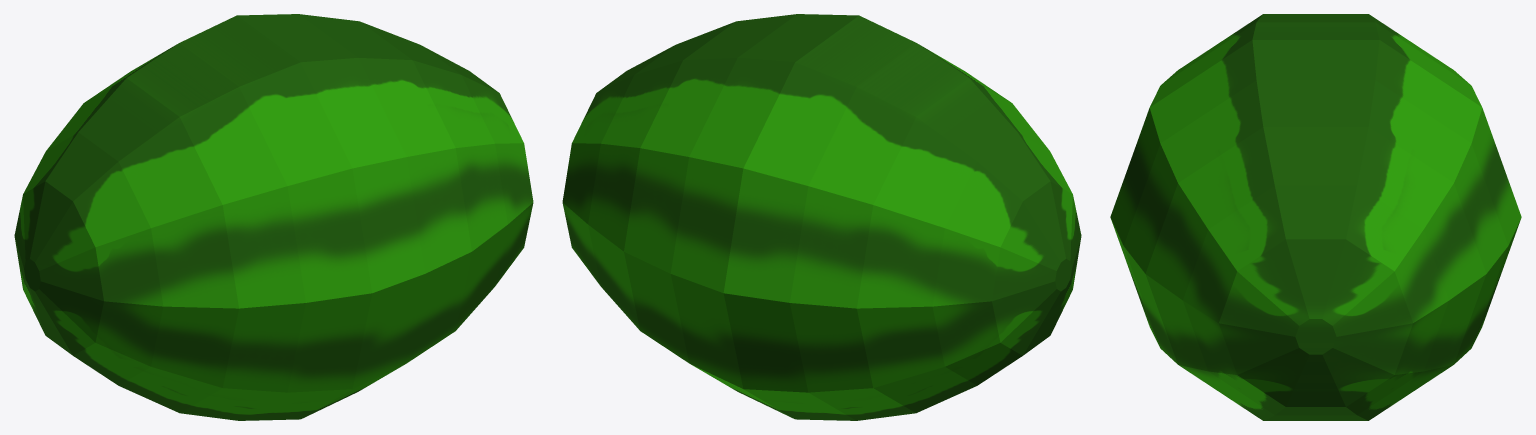
File: semangka.fbx
3 renders of one model, left to right at view 1: azimuth 30°, elevation 25°; view 2: azimuth 150°, elevation 25°; view 3: azimuth 270°, elevation 25°, orthographic.
Visible parts, largest first — view 1: semangka; view 2: semangka; view 3: semangka.
Boxes of the visible parts, box(x1,y1,x2,y2) form: semangka: box(14, 14, 533, 420); semangka: box(562, 14, 1081, 420); semangka: box(1110, 14, 1521, 420).
Size of the model in its own units: 51.78 by 38.68 by 36.79.
1 material, 1 textured.
